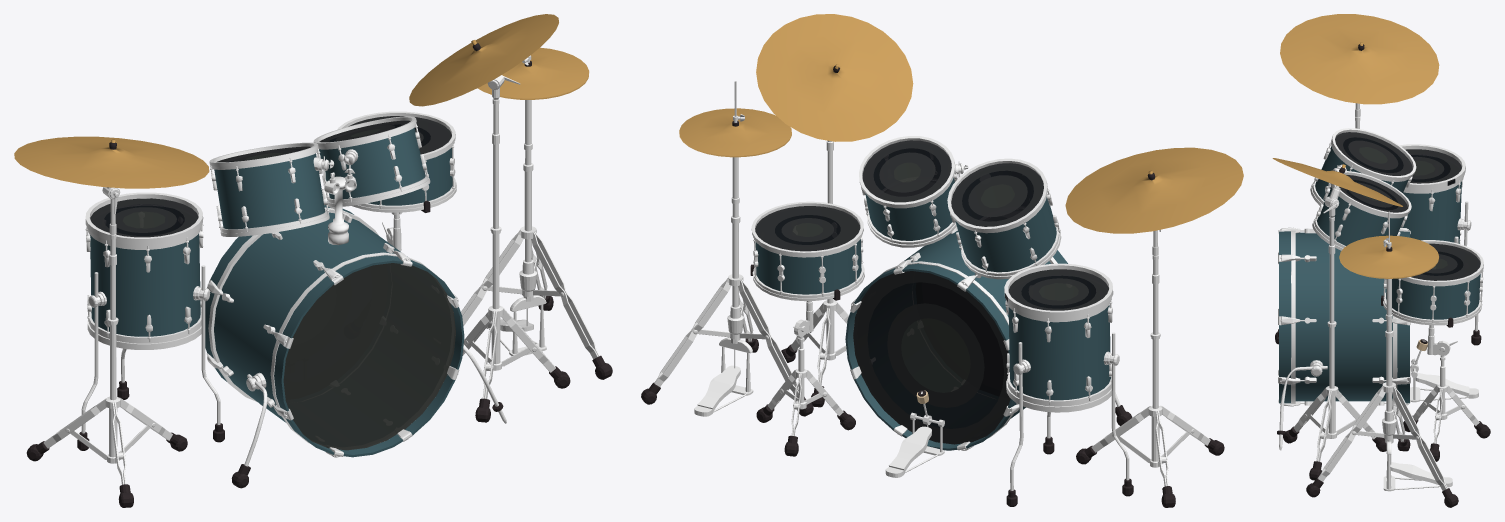
The model's file is drum_kit.glb.
3 views of the same model, side by side, from view 1: azimuth 30°, elevation 25°; view 2: azimuth 150°, elevation 25°; view 3: azimuth 270°, elevation 25° (orthographic). The views are drawn at different scales.
Visible parts, largest first — view 1: Circle.003_Black_0, Cylinder_Black Glossy_0; view 2: Circle.003_Black_0, Cylinder_Black Glossy_0; view 3: Circle.003_Black_0, Cylinder_Black Glossy_0.
Boxes of the visible parts, <box> form: Circle.003_Black_0: <box>14,14,612,507</box>; Cylinder_Black Glossy_0: <box>90,116,455,450</box>; Circle.003_Black_0: <box>641,14,1243,507</box>; Cylinder_Black Glossy_0: <box>755,140,1108,444</box>; Circle.003_Black_0: <box>1272,14,1490,507</box>; Cylinder_Black Glossy_0: <box>1335,132,1480,280</box>.
Bounding box in the file's own units: 3.08 × 1.88 × 1.22.
Materials: 2 (2 with a texture image).
